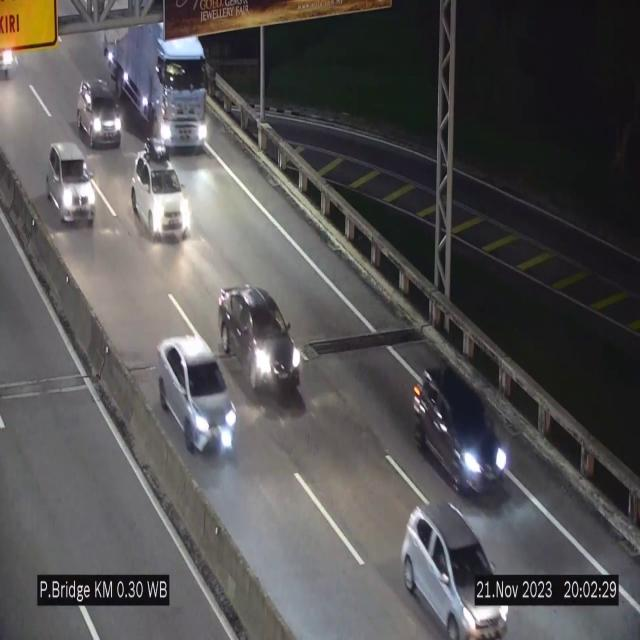Car: (402, 503, 508, 639), (414, 366, 508, 491), (158, 335, 236, 452), (220, 284, 300, 389), (128, 136, 191, 245), (46, 143, 96, 225), (77, 79, 121, 149)
Truck: (104, 26, 208, 148)
